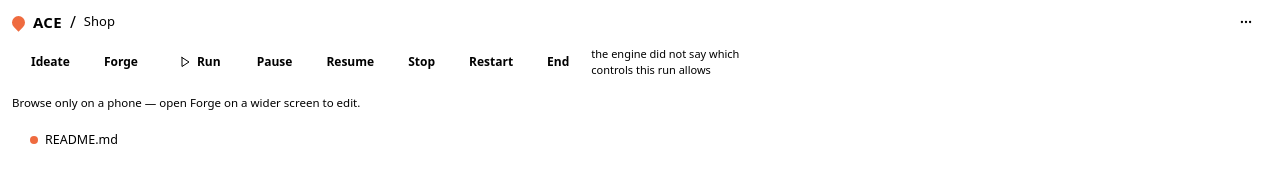
Test: D299 FR-MOB-001 Forge on a phone is browse-only › shows the tree, then a file read-only, and offers nothing that edits
Check: the element with test id "compact-forge" shows "Browse only on a phone", box [12,95,360,110]
Right-click the list item with test id "tree-item-README.md" at coordinates (74, 139), box [30,131,118,148]
Press F2
Press Delete
Click the list item with test id "tree-item-README.md" at coordinates (74, 139), box [30,131,118,148]
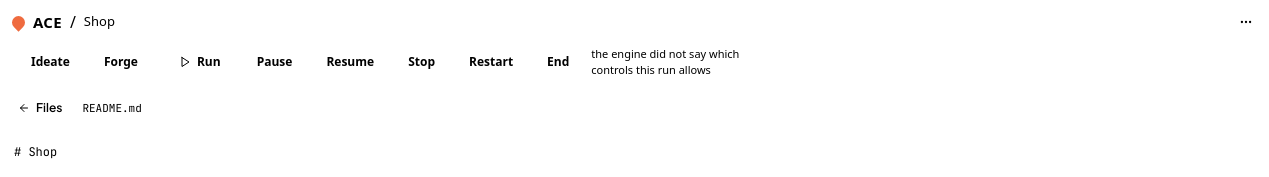
Check: the text named "Contents of README.md" reads "# Shop", box [14,144,57,160]
Click the button "Files" at coordinates (40, 108), box [4,93,76,123]
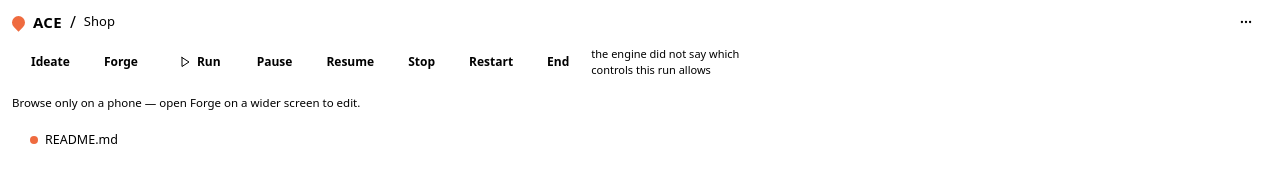
Check: the element with test id "compact-forge" is shown, box [12,95,360,148]
